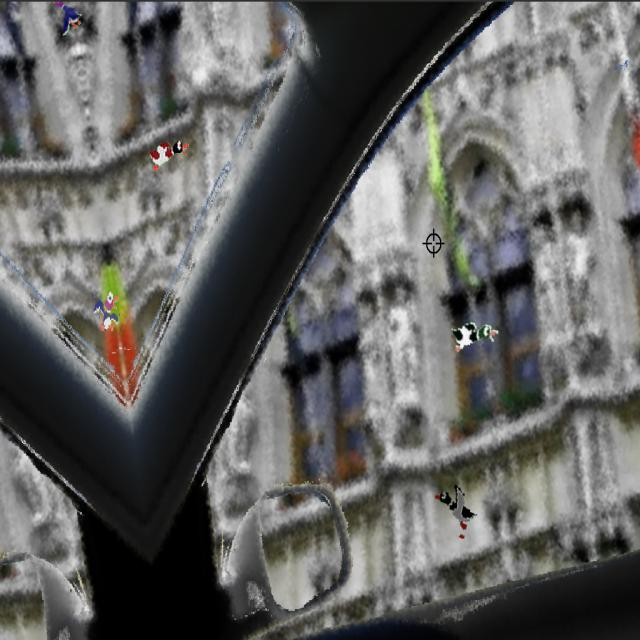duck: (434, 476, 478, 538), (447, 321, 501, 364), (144, 137, 192, 171), (51, 0, 88, 41)
falling_duck: (90, 283, 123, 332)
